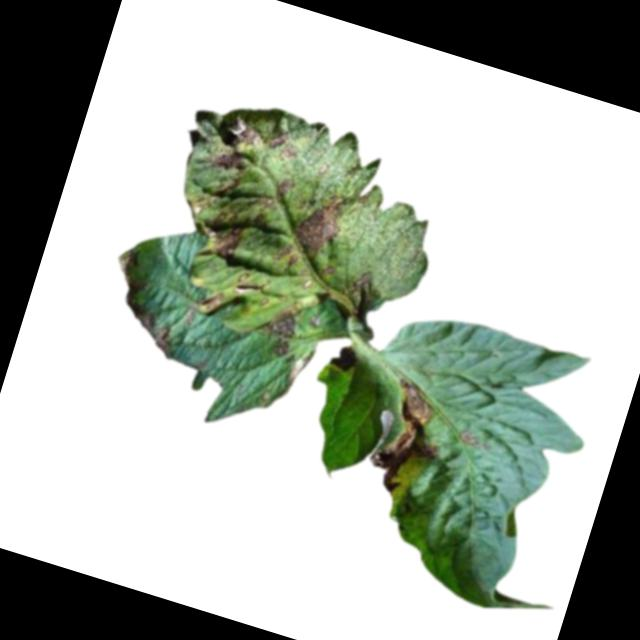Early_blight: (362, 372, 460, 505), (272, 180, 352, 278), (199, 109, 269, 199), (195, 200, 259, 266), (129, 306, 183, 359), (257, 301, 302, 358), (342, 268, 383, 318), (265, 126, 299, 163), (455, 428, 493, 452)
